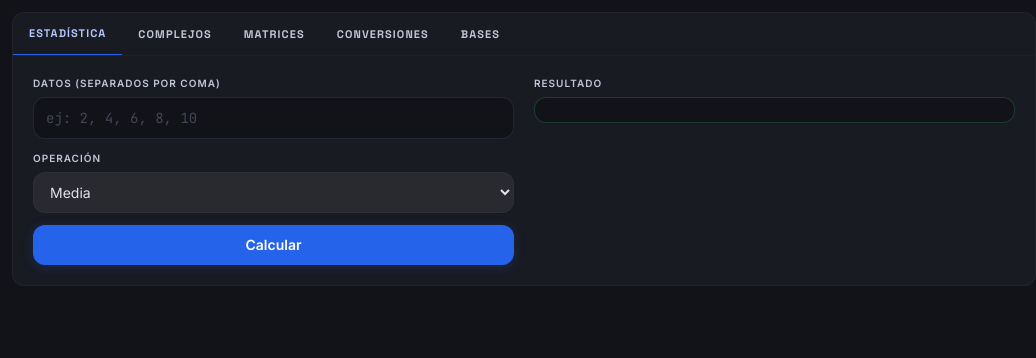
Scenario: AdvancedPanel — Tab Complejos › cAdd: (1+2i) + (3+4i) = 4+6i
Click the tab with test id "tab-complex" at (175, 34), box [122,13,228,54]
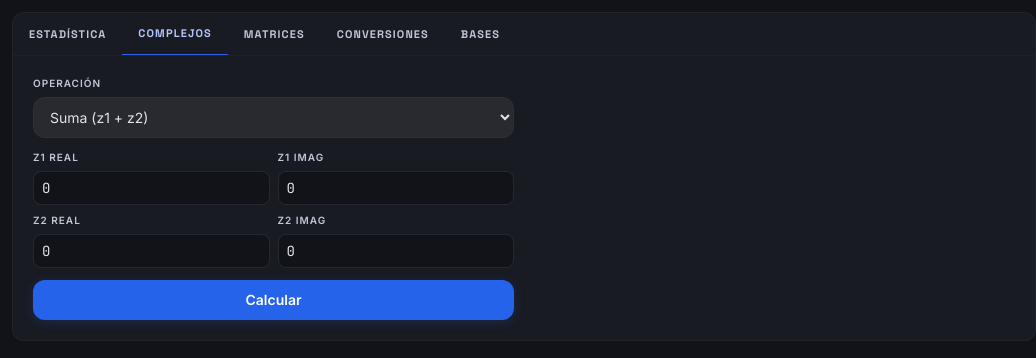
Replace the text in the number field with test id "complex-z1-real" with "1" at (151, 188), box [33,170,270,204]
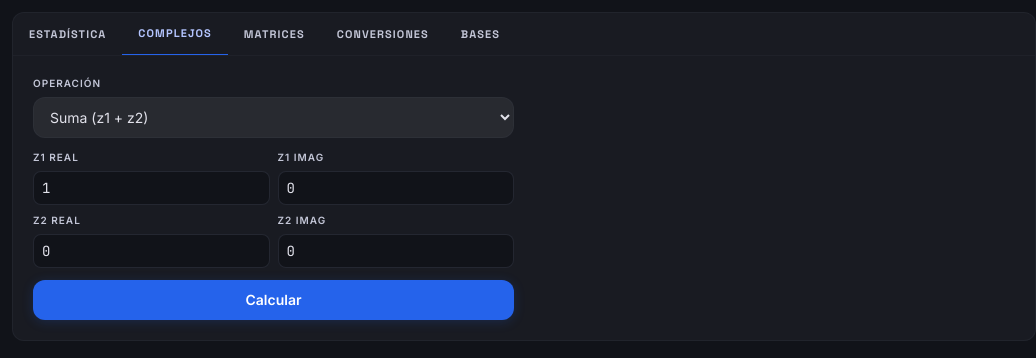
Replace the text in the number field with test id "complex-z1-imag" with "2" at (396, 188), box [278,170,514,204]
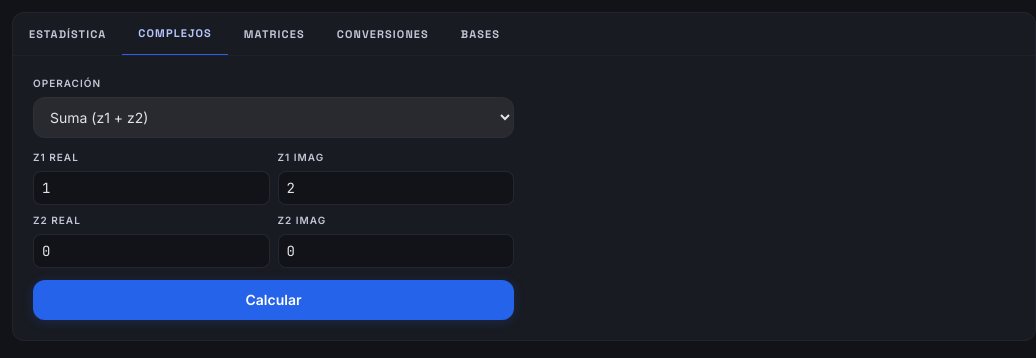
Replace the text in the number field with test id "complex-z2-real" with "3" at (151, 250), box [33,234,270,268]
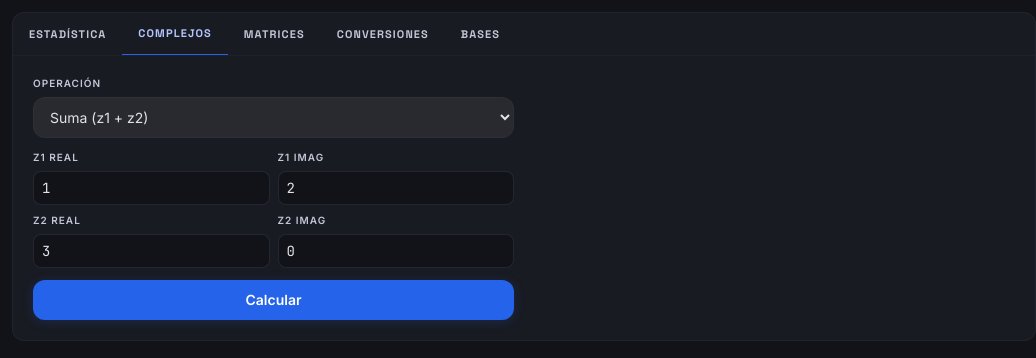
Replace the text in the number field with test id "complex-z2-imag" with "4" at (396, 250), box [278,234,514,268]
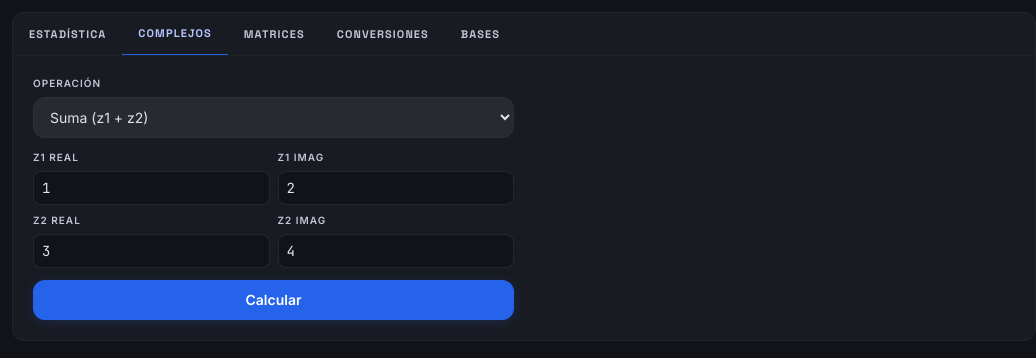
Select "Suma (z1 + z2)" in the dropdown with test id "complex-op-select" at (274, 117), box [33,96,514,138]
Click the button with test id "complex-calc-button" at (274, 300), box [33,280,514,320]
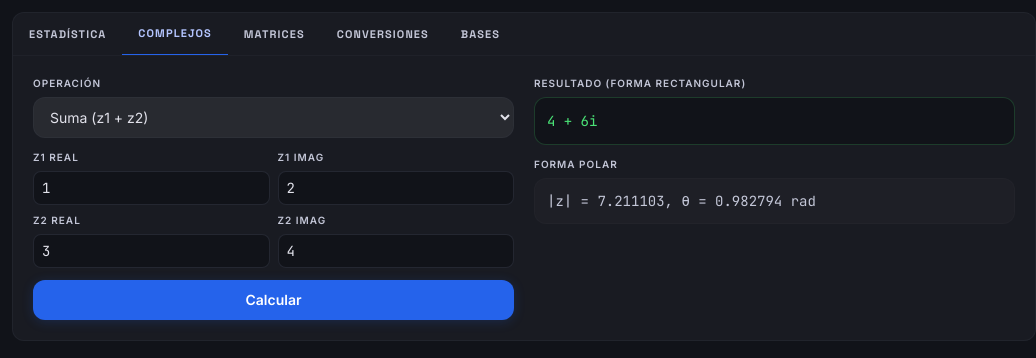
Check: the text with test id "complex-result" shows "4", box [547,112,597,130]
Check: the text with test id "complex-result" shows "6", box [534,96,1015,145]
